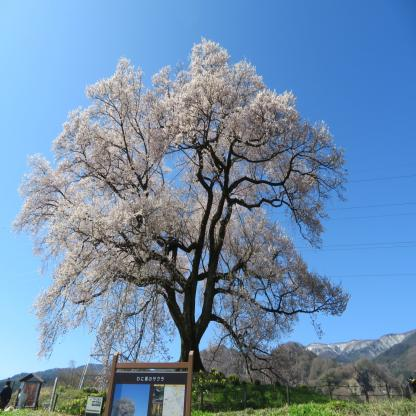EdohiganSakura: (10, 36, 354, 378)
